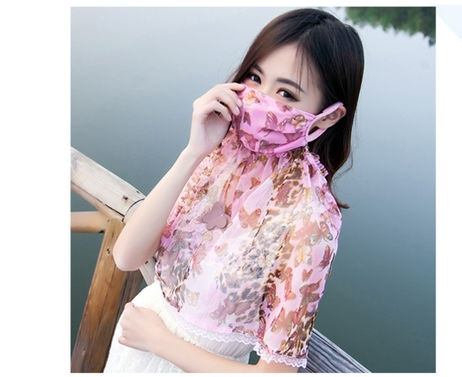face_mask: (229, 46, 322, 145)
